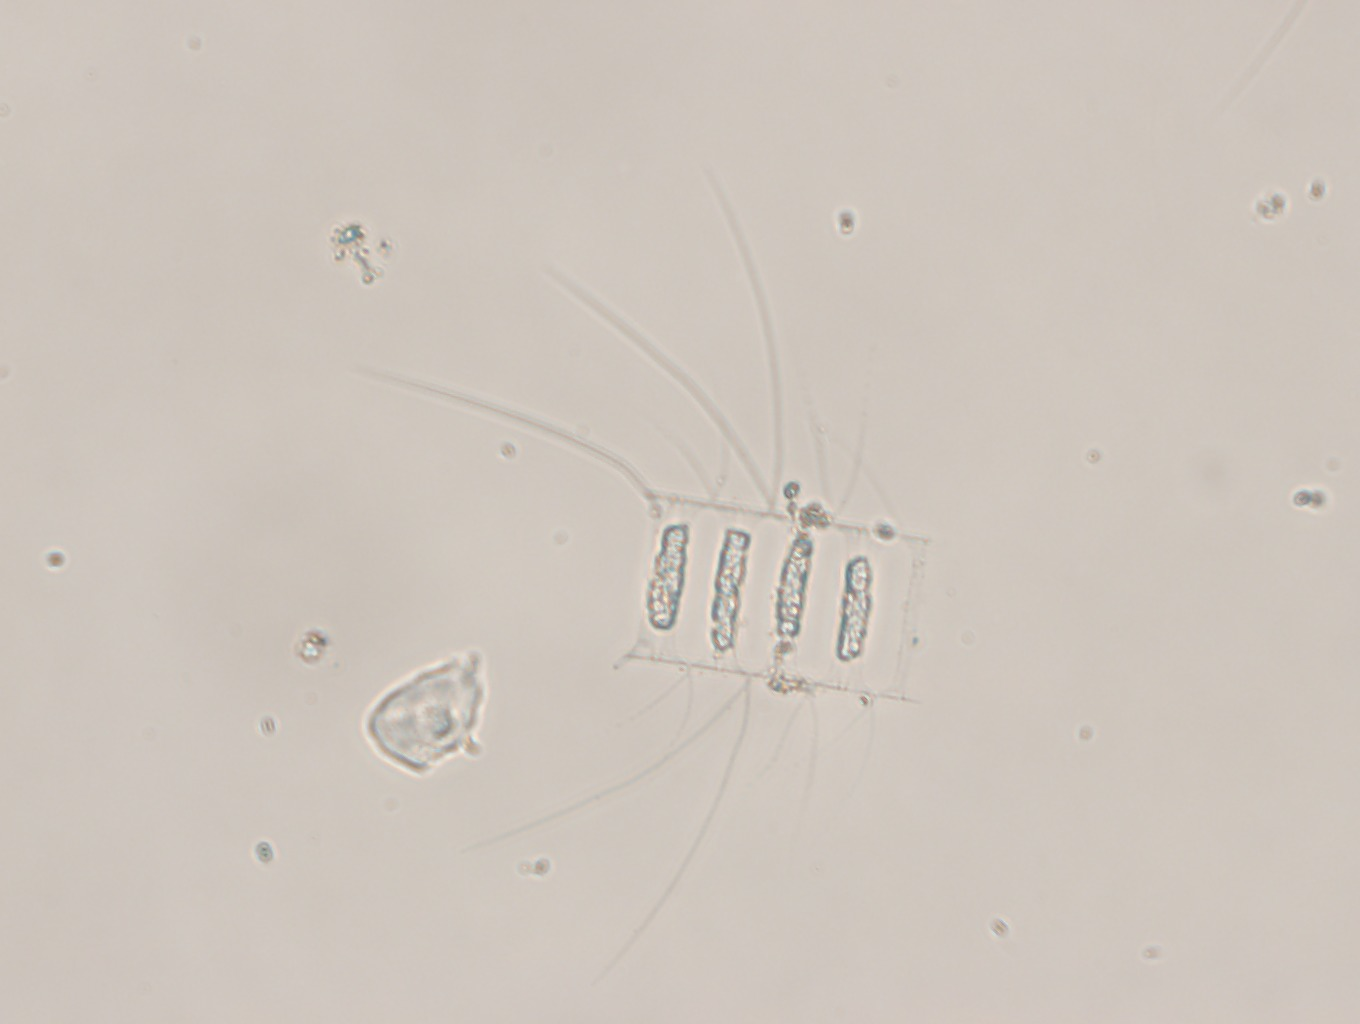chaetoceros: (327, 169, 949, 945)
